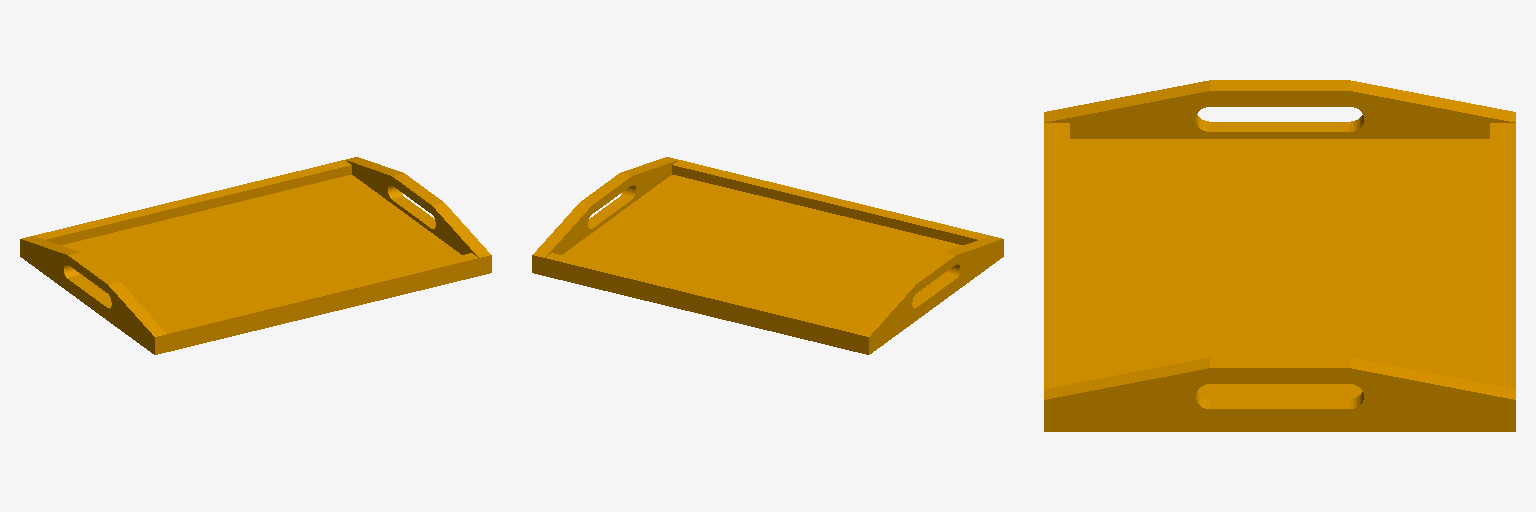
The robot description file, URDF, robot "tray_model":
<robot name="tray_model">
  <link name="tray">
    <inertial>
      <mass value="10" />
      <inertia  ixx="1.0" ixy="0.0"  ixz="0.0"  iyy="1.0"  iyz="0.0"  izz="1.0" />
    </inertial>
    <visual>
      <geometry>
        <mesh filename="package://3d_models_pkg/models/tray/tray.dae" scale="10 10 10"/>
      </geometry>	
    </visual>
    <collision>
      <geometry>
        <mesh filename="package://3d_models_pkg/models/tray/tray.dae" scale="10 10 10"/>
      </geometry>
    </collision>
  </link>
  
</robot>

--- Render facts (derived) ---
The picture shows the robot from 3 angles, left to right: view 1: azimuth 30°, elevation 25°; view 2: azimuth 150°, elevation 25°; view 3: azimuth 270°, elevation 25°; orthographic projection.
Robot: tray_model — 1 links, 0 joints (none); root link tray; default pose: every joint at zero.
Visible links, largest first — view 1: tray; view 2: tray; view 3: tray.
Link boxes in pixels (x1=…): tray: x1=20, y1=157, x2=491, y2=354; tray: x1=532, y1=157, x2=1003, y2=354; tray: x1=1044, y1=80, x2=1515, y2=431.
Bounding box of the posed robot: 4.86 × 3.36 × 0.5 m (x, y, z).
Meshes: 1 distinct files referenced, 1 mesh visuals loaded (1 Collada DAE).